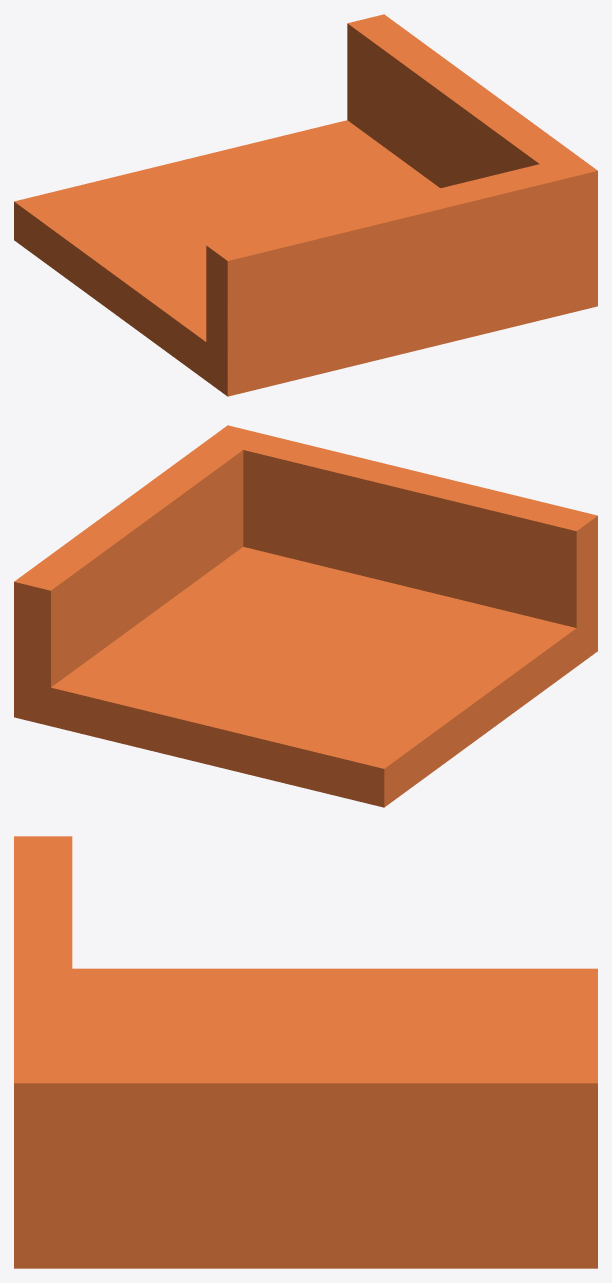
Rendered from OrangeRoof_Corner_Small.glb.
The picture shows the model from 3 angles, top to bottom: view 1: azimuth 30°, elevation 25°; view 2: azimuth 150°, elevation 25°; view 3: azimuth 270°, elevation 25°; orthographic projection. The views are drawn at different scales.
Parts seen in each view (by area): view 1: roof_flat_corner_small_orange; view 2: roof_flat_corner_small_orange; view 3: roof_flat_corner_small_orange.
Part boxes in pixels (x1,y1,x2,y2): roof_flat_corner_small_orange: [14, 14, 597, 396]; roof_flat_corner_small_orange: [14, 425, 597, 807]; roof_flat_corner_small_orange: [14, 836, 597, 1268].
Size of what is drawn, in the model's own units: 2 by 0.7 by 2.
Materials: 1 (1 with a texture image).
